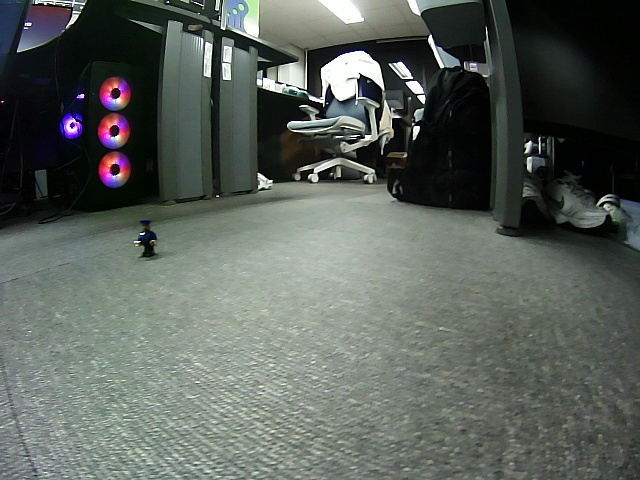person: (133, 219, 158, 260)
